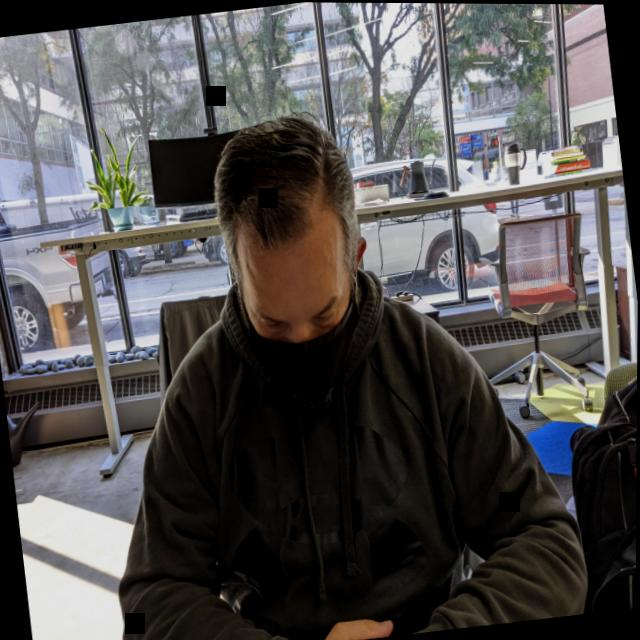Mask: (224, 208, 381, 422)
